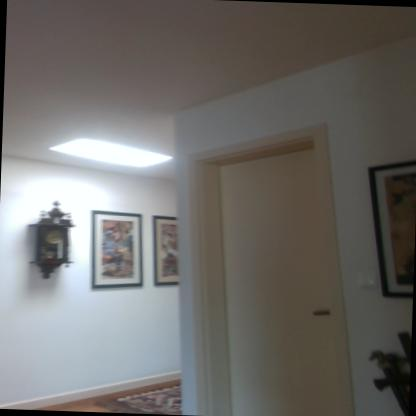closed: (178, 126, 348, 416)
